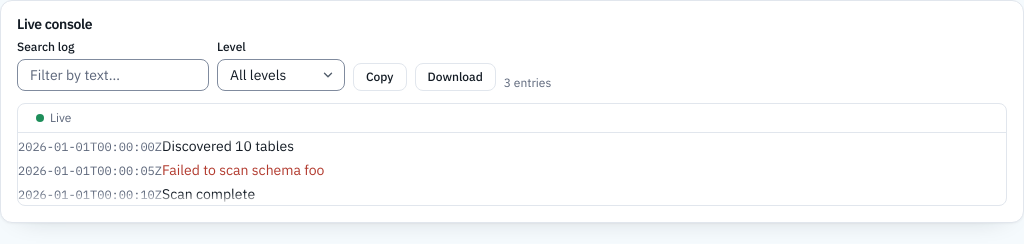
Scenario: ConsoleShell log controls › disables copy/download when the filtered result is empty
This screenshot has width=1024, height=244.
Type "no such entry" into the search field labelled "Search log" at (113, 75), box [17,59,209,91]
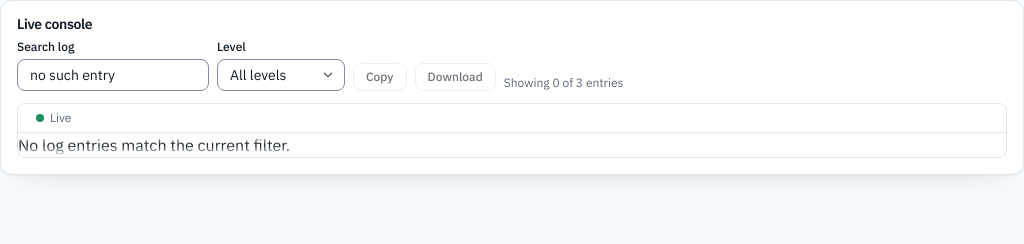
Check: the button "Copy" is disabled, box [353,63,406,91]
Check: the button "Download" is disabled, box [414,63,496,91]
Check: the text "No log entries match the current filter." is shown, box [18,135,290,155]
